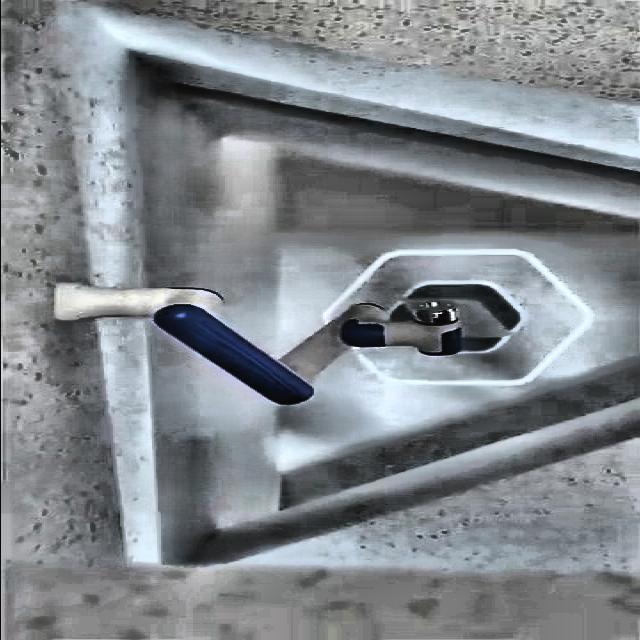robot: (54, 247, 594, 406)
